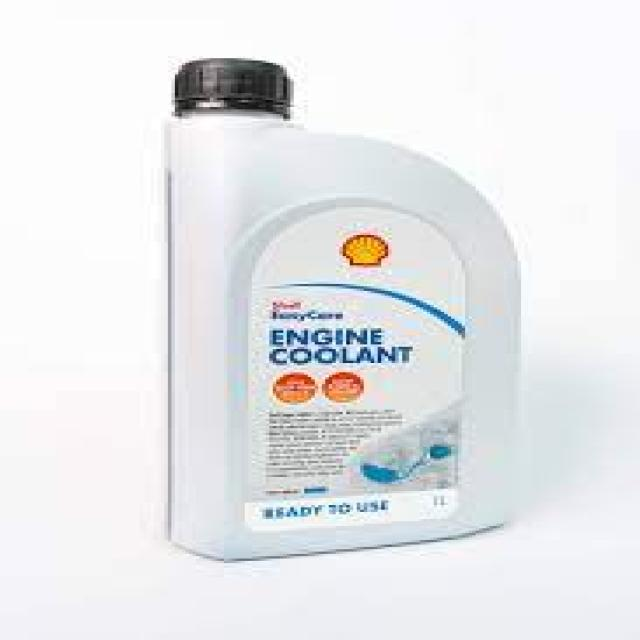coolant: (137, 48, 534, 566)
